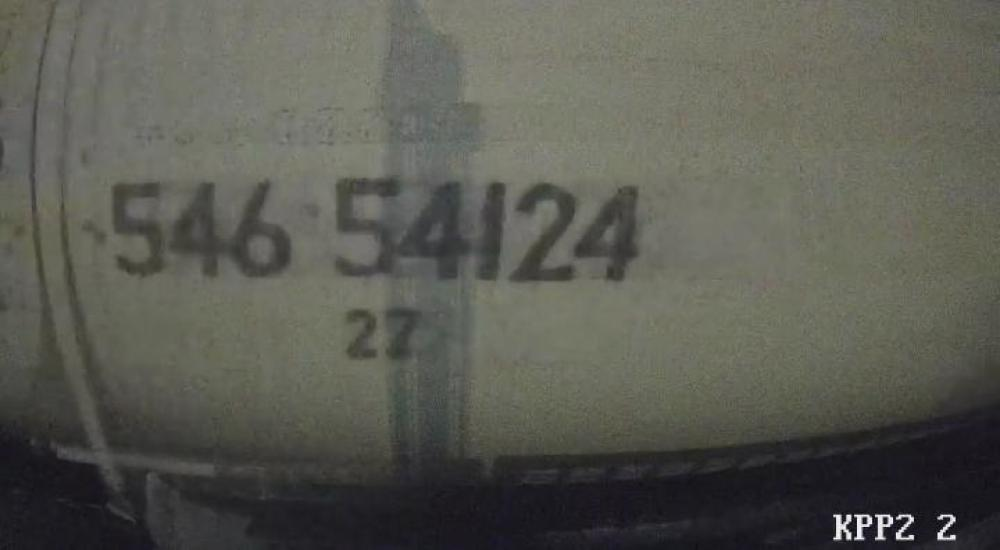Wagon-number: (106, 173, 649, 289)
